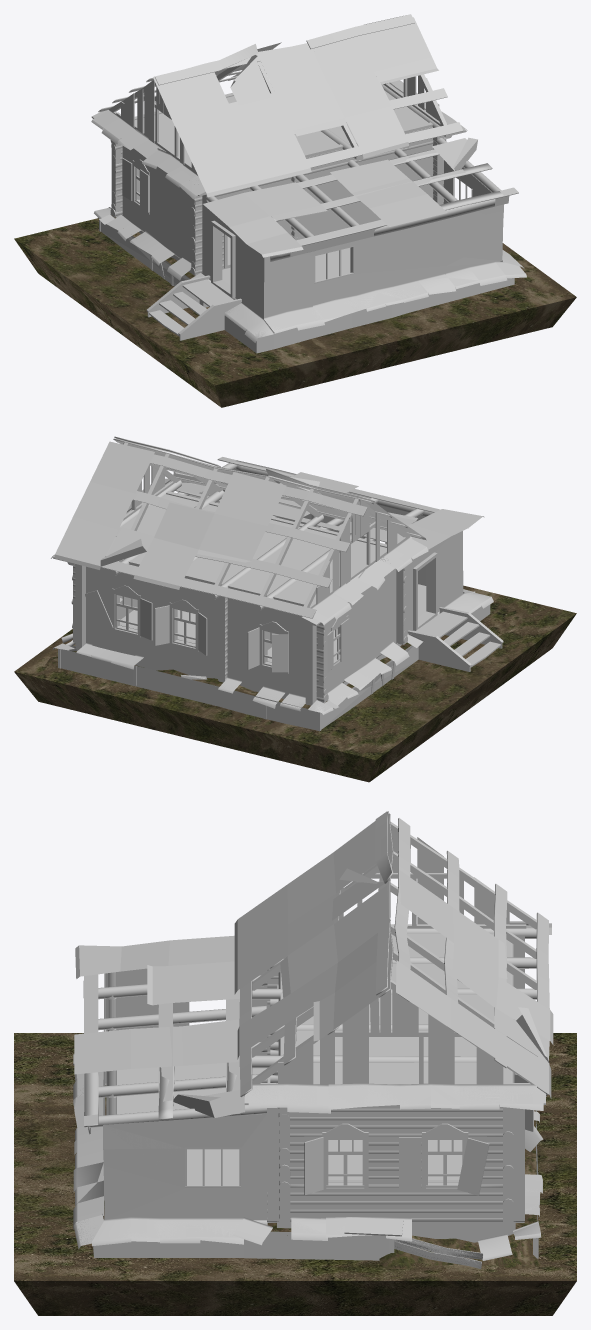
The model's file is SurvivalOldHouse01_model.FBX.
The picture shows the model from 3 angles, top to bottom: view 1: azimuth 30°, elevation 25°; view 2: azimuth 150°, elevation 25°; view 3: azimuth 270°, elevation 25°; orthographic projection. The views are drawn at different scales.
Parts seen in each view (by area): view 1: LOD_02_Metall03, Terrain, LOD_02_WerandaWood, LOD_01_SrubWood, LOD_01_Obreshetka_stropily, LOD_0_SrubWood, LOD_01_WerandaWood, LOD_0_Metall03, LOD_01_Metall03, LOD_02_SrubWood, LOD_01_HouseInterior, LOD_0_HouseWindows (+7 smaller); view 2: Terrain, LOD_02_Metall03, LOD_01_SrubWood, LOD_01_Obreshetka_stropily, LOD_01_Metall03, LOD_02_SrubWood, LOD_01_HouseInterior, LOD_0_SrubWood, LOD_01_ZavalinkaWood, LOD_01_HouseWindows, LOD_01_WerandaWood, LOD_0_HouseWindows (+11 smaller); view 3: LOD_02_Metall03, Terrain, LOD_01_Obreshetka_stropily, LOD_0_SrubWood, LOD_01_SrubWood, LOD_01_WerandaWood, LOD_01_Metall03, LOD_02_SrubWood, LOD_0_Metall03, LOD_02_WerandaWood, LOD_01_ZavalinkaWood, LOD_01_HouseInterior (+10 smaller).
Boxes of the visible parts, x1,y1,x2,y2 form: LOD_02_Metall03: [92, 17, 525, 337]; Terrain: [14, 218, 576, 407]; LOD_02_WerandaWood: [148, 211, 514, 352]; LOD_01_SrubWood: [111, 127, 518, 275]; LOD_01_Obreshetka_stropily: [92, 14, 466, 196]; LOD_0_SrubWood: [110, 84, 518, 299]; LOD_01_WerandaWood: [146, 201, 503, 353]; LOD_0_Metall03: [91, 17, 505, 333]; LOD_01_Metall03: [94, 15, 526, 342]; LOD_02_SrubWood: [111, 128, 448, 272]; LOD_01_HouseInterior: [134, 87, 432, 165]; LOD_0_HouseWindows: [122, 158, 149, 214]; Terrain: [14, 585, 576, 782]; LOD_02_Metall03: [53, 441, 491, 712]; LOD_01_SrubWood: [68, 457, 440, 704]; LOD_01_Obreshetka_stropily: [53, 439, 422, 625]; LOD_01_Metall03: [51, 443, 493, 714]; LOD_02_SrubWood: [73, 490, 407, 699]; LOD_01_HouseInterior: [106, 491, 386, 656]; LOD_0_SrubWood: [67, 459, 439, 705]; LOD_01_ZavalinkaWood: [58, 646, 418, 731]; LOD_01_HouseWindows: [85, 586, 341, 673]; LOD_01_WerandaWood: [232, 469, 503, 671]; LOD_0_HouseWindows: [97, 585, 349, 673]; LOD_02_Metall03: [73, 811, 550, 1245]; Terrain: [14, 1033, 576, 1315]; LOD_01_Obreshetka_stropily: [239, 811, 551, 1103]; LOD_0_SrubWood: [83, 927, 546, 1224]; LOD_01_SrubWood: [84, 935, 524, 1225]; LOD_01_WerandaWood: [94, 973, 270, 1257]; LOD_01_Metall03: [73, 874, 553, 1248]; LOD_02_SrubWood: [106, 936, 524, 1221]; LOD_0_Metall03: [73, 868, 553, 1260]; LOD_02_WerandaWood: [93, 997, 266, 1255]; LOD_01_ZavalinkaWood: [244, 1149, 538, 1268]; LOD_01_HouseInterior: [280, 932, 511, 1182].
Size of the model in its own units: 123 by 118 by 75.41.
